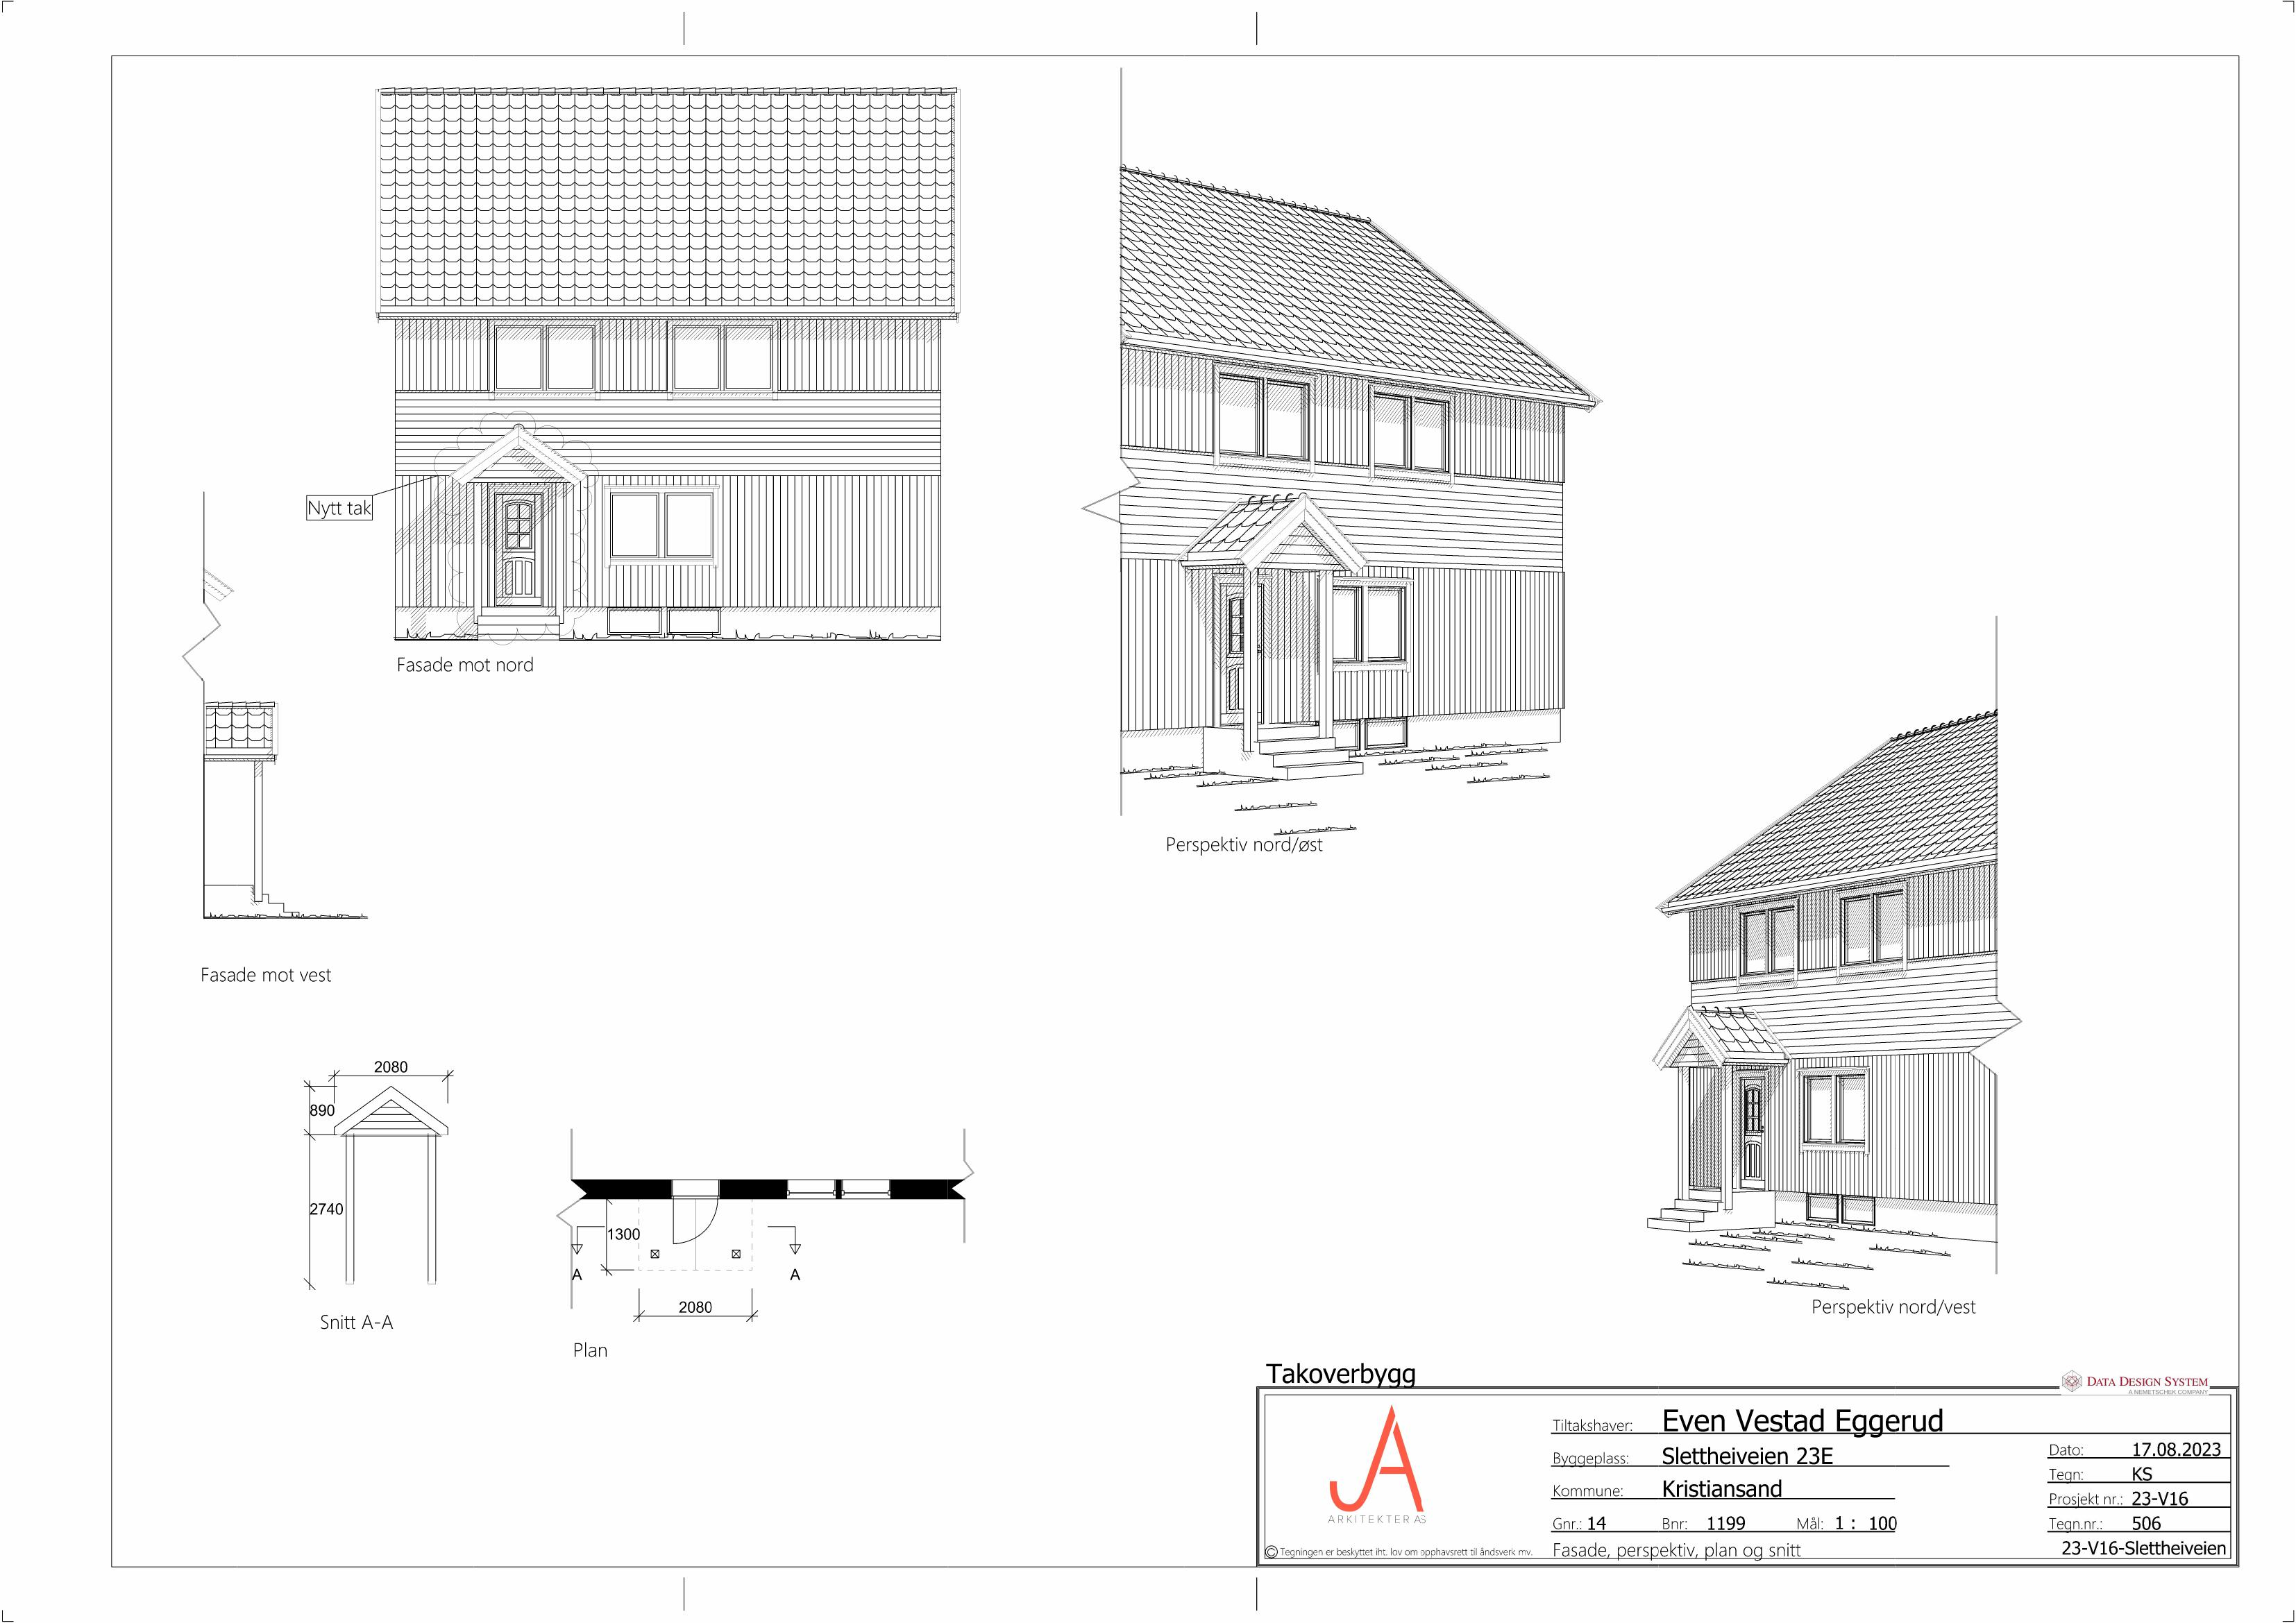fasade: (362, 72, 970, 648), (167, 648, 362, 936)
plantegning: (541, 1115, 1010, 1333)
snitt: (285, 1042, 469, 1303)
